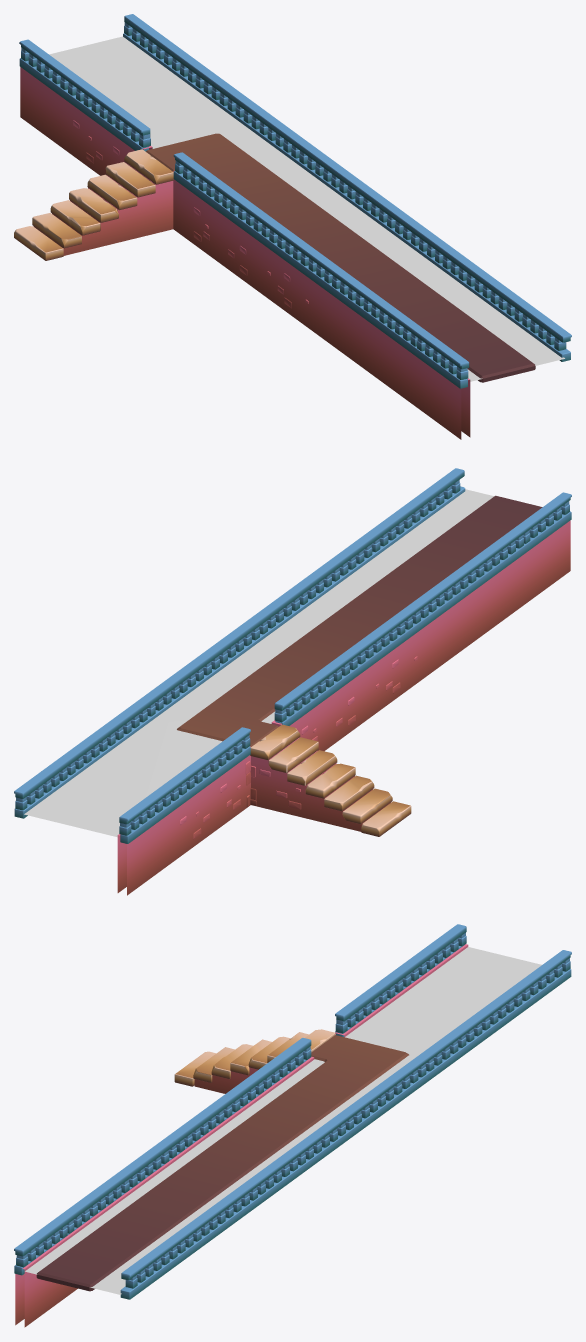
Rendered from SM_Brickwall.fbx.
3 views of the same model, one above another, from view 1: azimuth 30°, elevation 25°; view 2: azimuth 150°, elevation 25°; view 3: azimuth 330°, elevation 25° (orthographic).
Parts seen in each view (by area): view 1: Cube.022; view 2: Cube.022; view 3: Cube.022.
Boxes of the visible parts, left/top/right/bottom form: Cube.022: left=14, top=14, right=571, bottom=439; Cube.022: left=14, top=468, right=571, bottom=895; Cube.022: left=14, top=924, right=571, bottom=1327.
Size of the model in its own units: 1318 by 396 by 4154.
